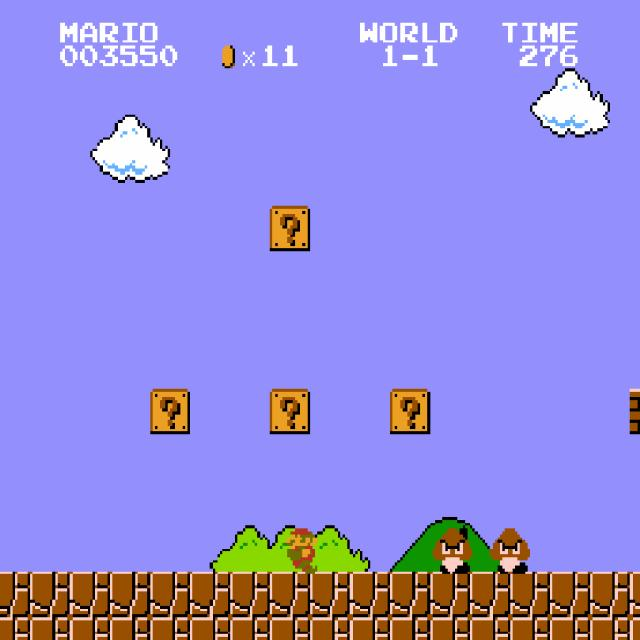brick_block: (629, 388, 640, 434)
goomba: (430, 526, 473, 574), (487, 526, 530, 574)
little_mario: (277, 526, 320, 574)
mystery_block: (150, 389, 190, 434), (270, 206, 310, 251), (270, 389, 310, 434), (390, 389, 430, 434)
undestructible_block: (30, 572, 70, 617), (70, 572, 110, 617), (110, 572, 150, 617), (150, 572, 190, 617), (190, 572, 230, 617), (230, 572, 270, 617), (270, 572, 310, 617), (310, 572, 350, 617), (350, 572, 390, 617), (390, 572, 430, 617), (430, 572, 470, 617), (470, 572, 510, 617), (510, 572, 550, 617), (550, 572, 590, 617), (590, 572, 630, 617), (0, 572, 30, 617), (30, 617, 70, 640), (70, 617, 110, 640), (110, 617, 150, 640), (150, 617, 190, 640), (190, 617, 230, 640), (230, 617, 270, 640), (270, 617, 310, 640), (310, 617, 350, 640), (350, 617, 390, 640), (390, 617, 430, 640), (430, 617, 470, 640), (470, 617, 510, 640), (510, 617, 550, 640), (550, 617, 590, 640), (590, 617, 630, 640), (0, 617, 30, 640), (629, 571, 640, 617), (629, 617, 640, 639)
